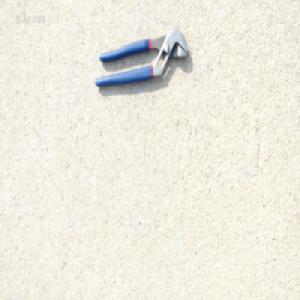Pliers: (93, 26, 189, 88)
